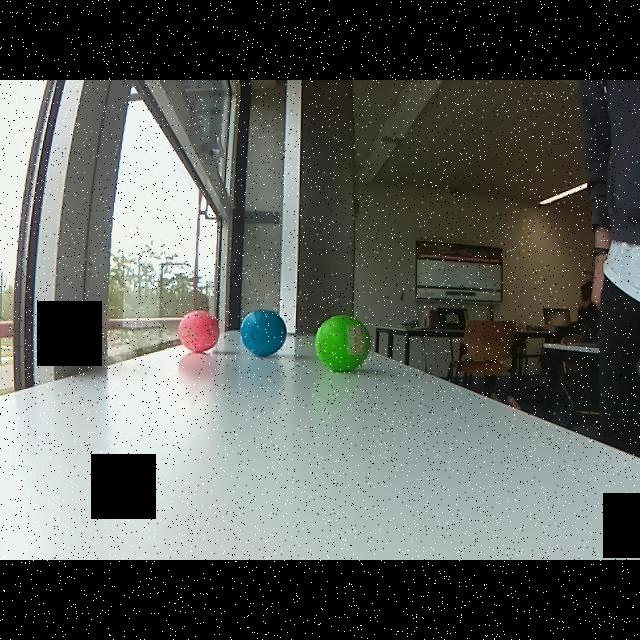ball: (238, 307, 288, 357), (175, 308, 222, 353)
